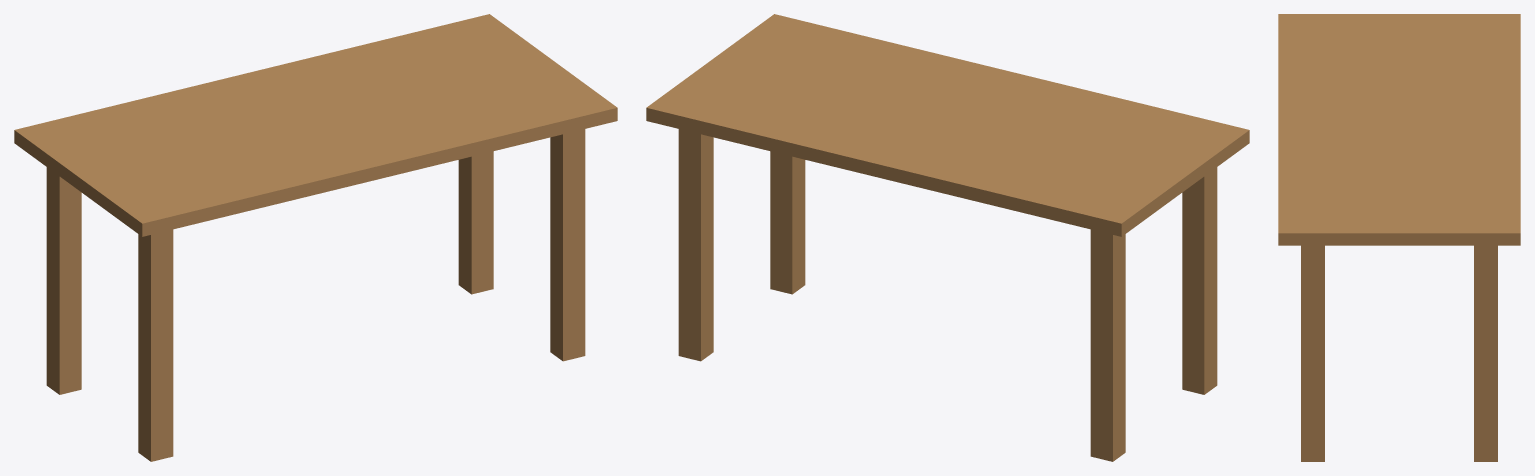
3 renders of one model, left to right at view 1: azimuth 30°, elevation 25°; view 2: azimuth 150°, elevation 25°; view 3: azimuth 270°, elevation 25°, orthographic. The views are drawn at different scales.
Parts seen in each view (by area): view 1: mesa_sarah; view 2: mesa_sarah; view 3: mesa_sarah.
Part boxes in pixels (x1,y1,x2,y2): mesa_sarah: (14,14,617,461); mesa_sarah: (646,14,1249,461); mesa_sarah: (1278,14,1520,461).
Bounding box in the file's own units: 1.5 × 0.7 × 0.76.
